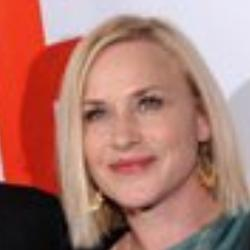face: (35, 4, 248, 235)
